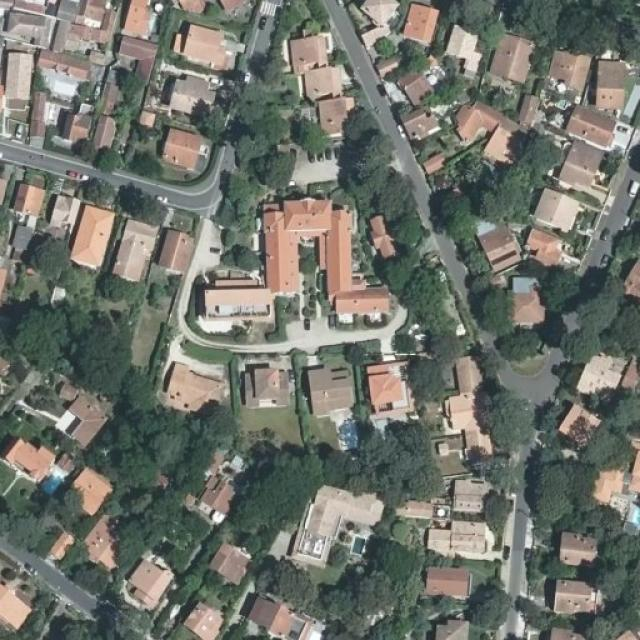immeuble: (194, 199, 405, 325)
maison: (286, 470, 394, 554), (451, 352, 499, 460), (239, 586, 327, 640), (592, 434, 640, 526), (452, 107, 514, 161), (48, 379, 111, 430), (75, 513, 126, 572), (165, 363, 225, 413), (430, 519, 502, 560), (193, 462, 241, 522), (124, 552, 174, 606), (111, 222, 157, 278), (71, 207, 113, 267), (176, 22, 233, 66), (307, 364, 355, 414), (362, 362, 410, 410), (240, 366, 292, 410), (160, 124, 205, 174), (71, 462, 116, 512), (581, 343, 619, 402), (6, 440, 56, 484), (210, 538, 255, 584), (550, 578, 598, 619), (503, 286, 549, 328), (497, 35, 532, 90), (424, 560, 477, 596), (558, 154, 610, 190), (551, 50, 594, 93), (592, 61, 632, 107), (530, 190, 577, 228), (36, 49, 98, 77), (180, 601, 224, 640), (575, 112, 617, 152), (400, 104, 445, 140), (320, 92, 357, 134), (478, 222, 517, 261), (560, 529, 600, 567), (527, 226, 565, 266), (164, 80, 208, 114), (157, 230, 193, 270), (402, 4, 440, 40), (58, 106, 92, 146), (8, 46, 32, 102), (450, 480, 491, 512), (398, 67, 434, 103), (293, 36, 330, 70), (304, 65, 341, 99), (41, 532, 75, 567), (448, 26, 475, 66), (123, 2, 158, 32), (16, 179, 44, 216), (31, 86, 50, 140), (94, 114, 118, 153), (429, 620, 470, 640), (50, 194, 80, 221), (548, 626, 592, 640), (422, 153, 448, 175), (376, 57, 396, 73), (141, 114, 157, 128), (396, 9, 405, 17)
